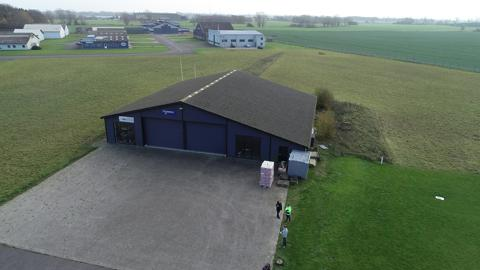RockwoolPallet: (259, 160, 275, 188)
